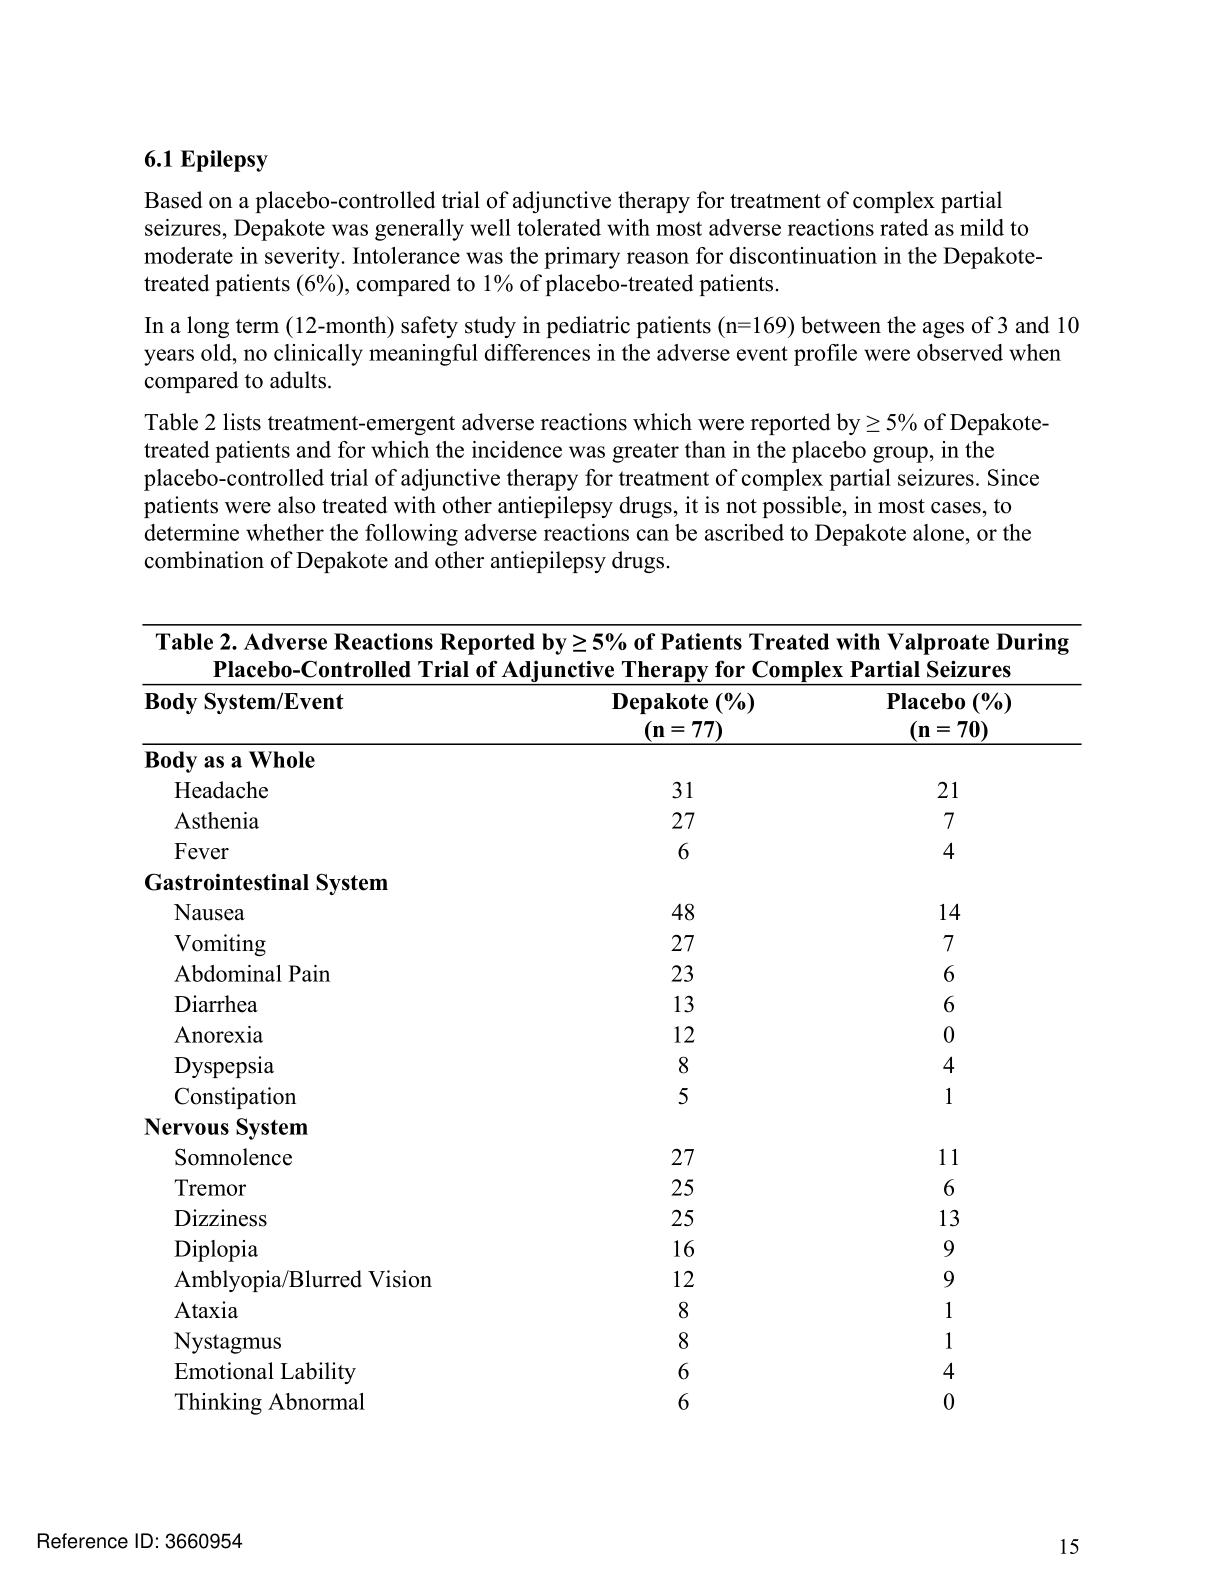partial_lined: (141, 681, 1083, 1421)
